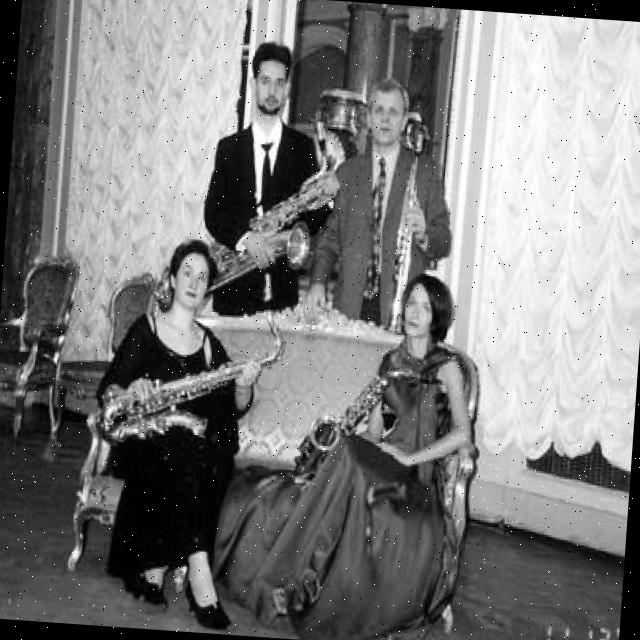saxophone: (91, 304, 290, 461), (210, 116, 346, 300), (292, 350, 444, 492)
